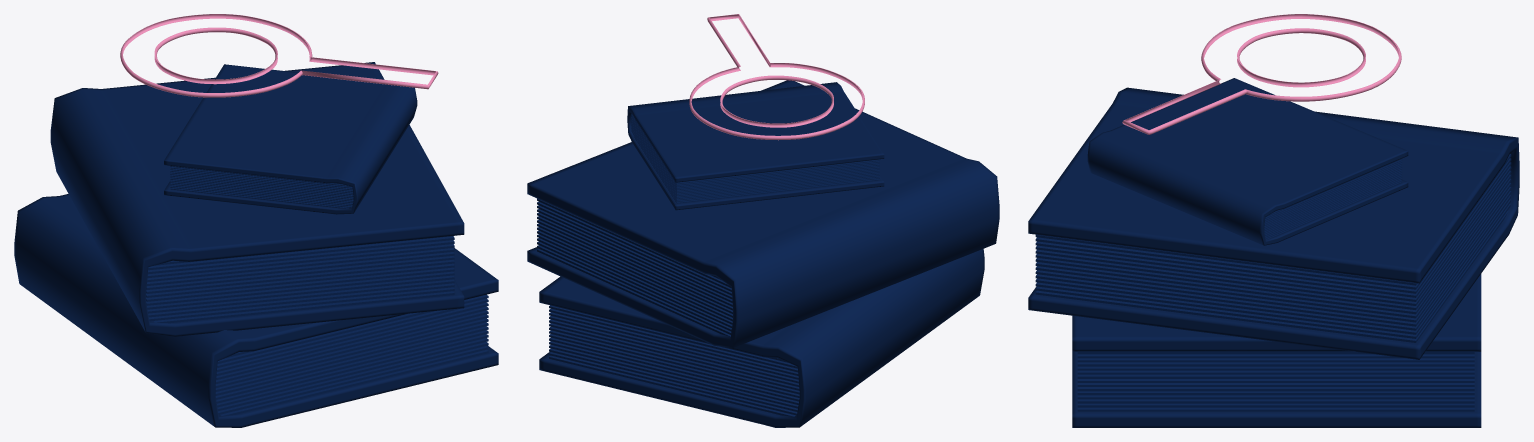
The model's file is Book04.gltf.
The picture shows the model from 3 angles, left to right: view 1: azimuth 30°, elevation 25°; view 2: azimuth 150°, elevation 25°; view 3: azimuth 270°, elevation 25°; orthographic projection. The views are drawn at different scales.
Visible parts, largest first — view 1: book close_paper.002, book close_paper.001, book close_paper.016, Curve; view 2: book close_paper.002, book close_paper.001, book close_paper.016, Curve; view 3: book close_paper.002, book close_paper.001, book close_paper.016, Curve.
Boxes of the visible parts, box(x1,y1,x2,y2) form: book close_paper.002: box(50, 62, 464, 336); book close_paper.001: box(14, 194, 498, 427); book close_paper.016: box(164, 64, 417, 214); Curve: box(120, 14, 438, 97); book close_paper.002: box(527, 80, 999, 347); book close_paper.001: box(539, 249, 984, 427); book close_paper.016: box(627, 82, 884, 210); Curve: box(689, 14, 864, 140); book close_paper.002: box(1028, 87, 1519, 359); book close_paper.001: box(1072, 274, 1481, 427); book close_paper.016: box(1087, 78, 1408, 245); Curve: box(1122, 14, 1401, 134).
Size of the model in its own units: 4.09 by 2.85 by 4.46.
